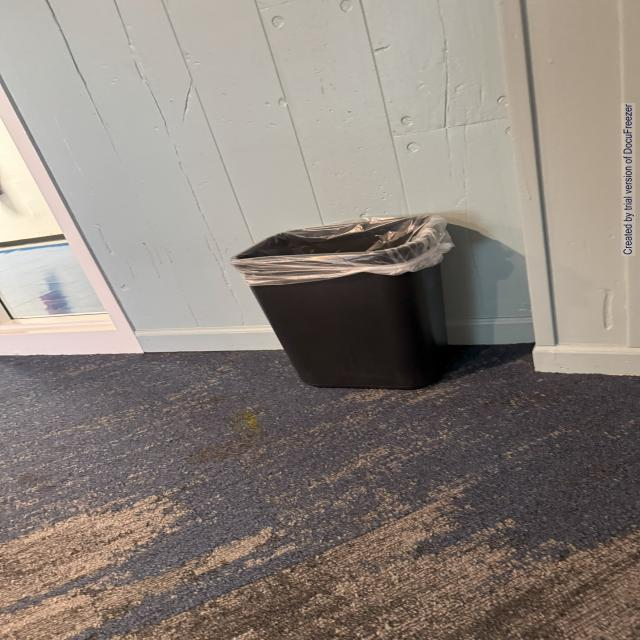Trash bin: (215, 205, 486, 398)
